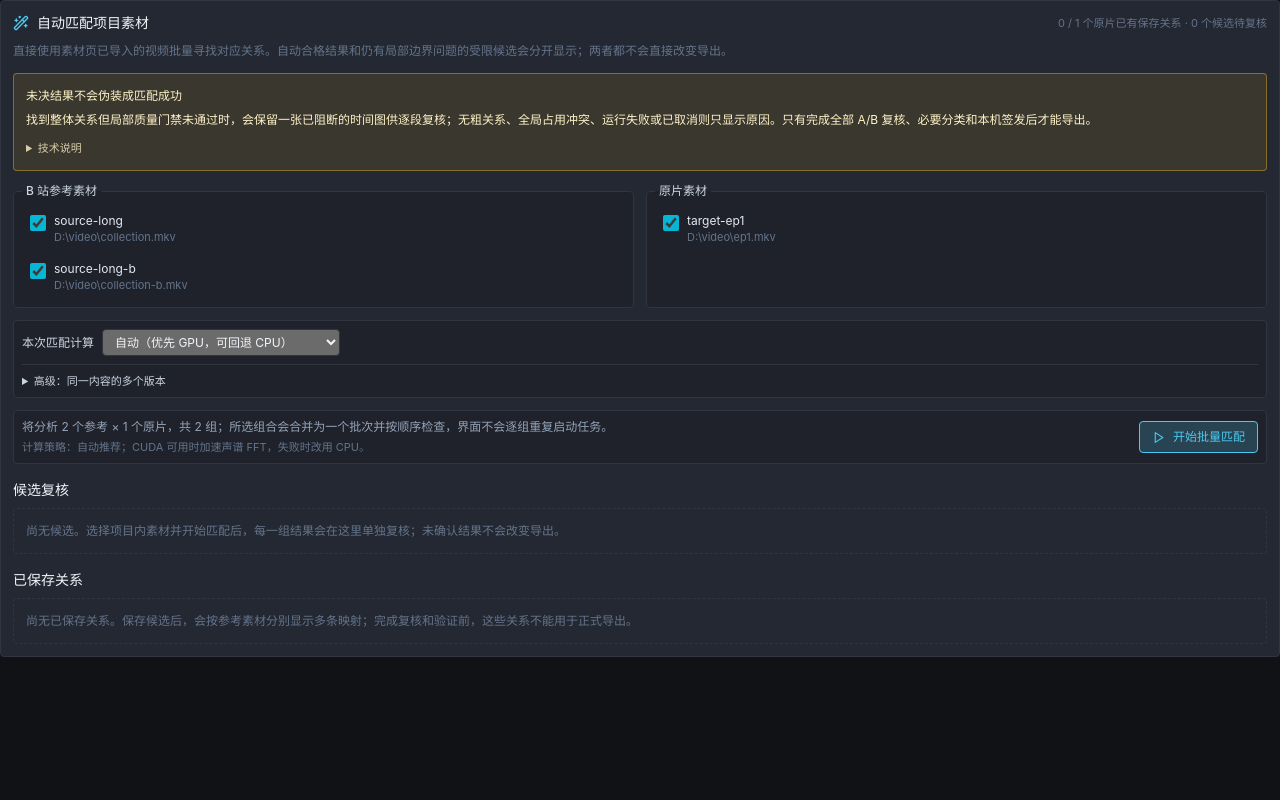
Test: 多媒体自动匹配工作台 › 前端分数偏好第一组时仍只发布后端最终分配选中的第二组
Step 1. Click the button "开始批量匹配" → (1198,437), box [1139,421,1258,453]
(page scrolled)
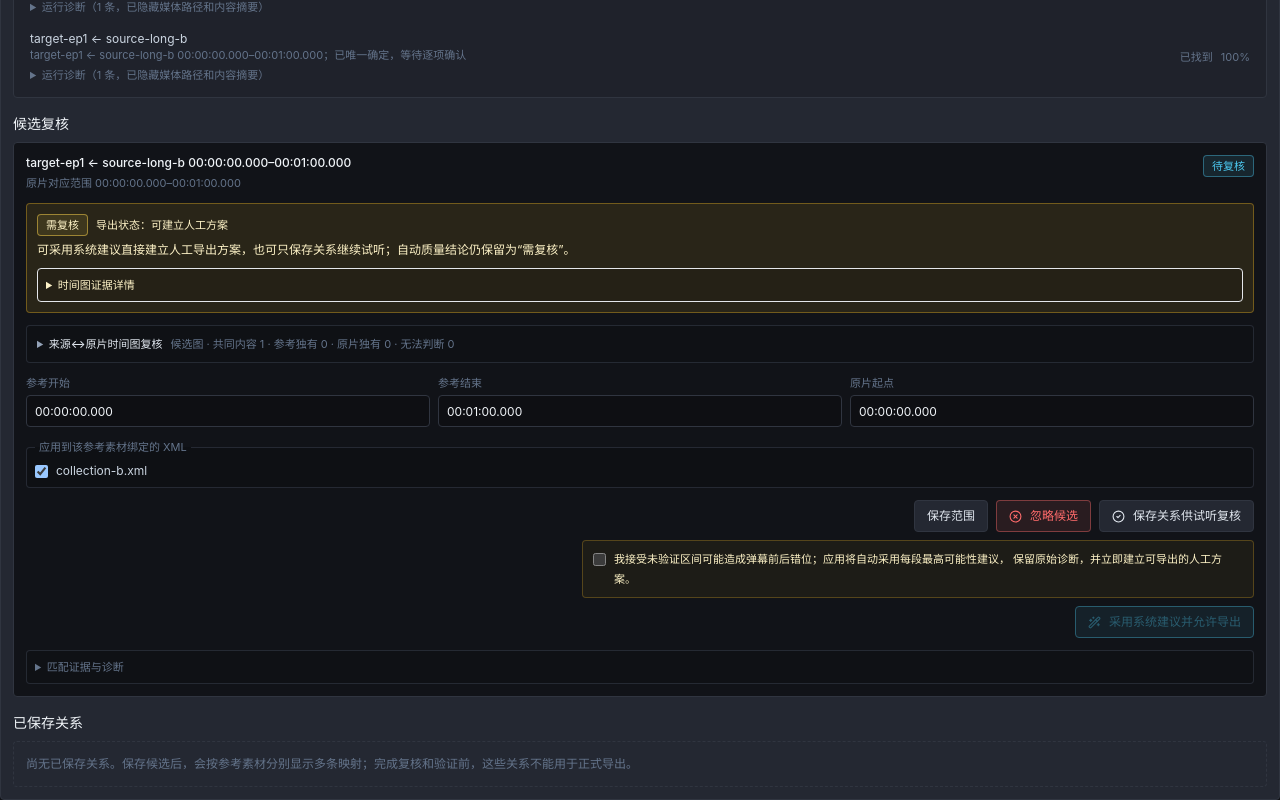
Now the element with test id "media-match-candidate" shows "target-ep1 ← source-long-b"
